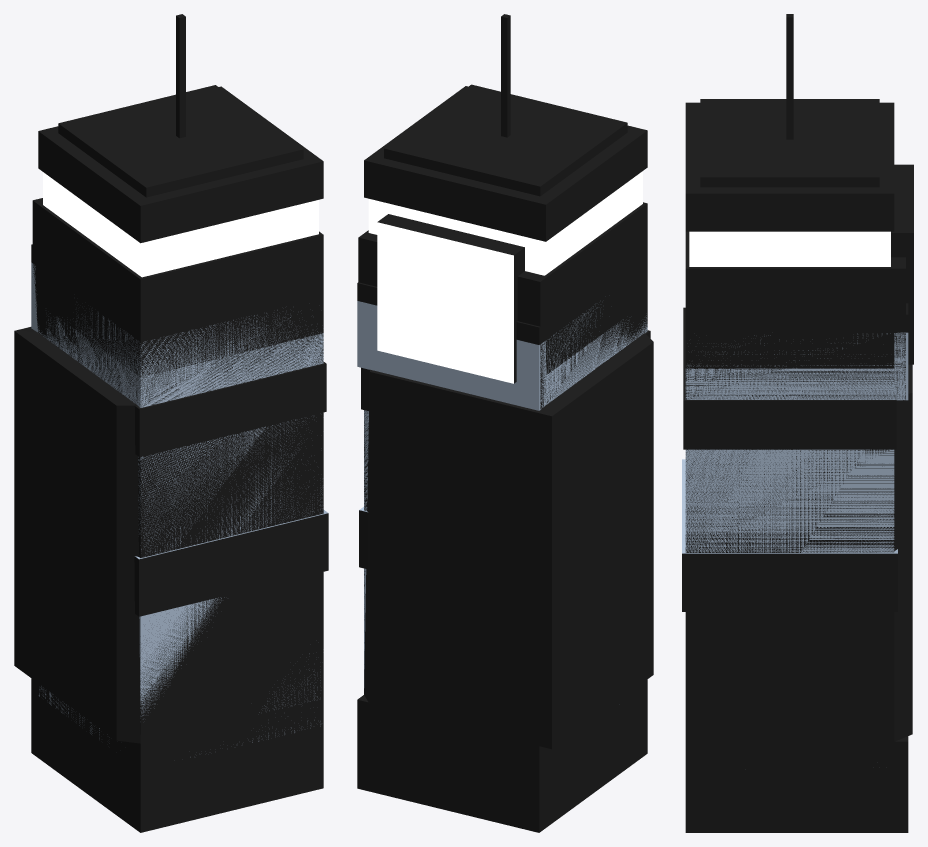
File: building4.glb
3 renders of one model, left to right at view 1: azimuth 30°, elevation 25°; view 2: azimuth 150°, elevation 25°; view 3: azimuth 270°, elevation 25°, orthographic. The views are drawn at different scales.
Parts seen in each view (by area): view 1: Cube.003, Cube.002, Cube, Cube.001, Cube.004; view 2: Cube.003, Cube.004, Cube.002, Cube, Cube.001; view 3: Cube.002, Cube.001, Cube.003, Cube, Cube.004.
Boxes of the visible parts, box(x1,y1,x2,y2) form: Cube.003: box(14, 85, 323, 743); Cube.002: box(31, 244, 323, 757); Cube: box(38, 222, 323, 832); Cube.001: box(38, 362, 328, 832); Cube.004: box(32, 14, 323, 407); Cube.003: box(364, 84, 653, 749); Cube.004: box(358, 14, 647, 409); Cube.002: box(357, 258, 647, 832); Cube: box(546, 220, 647, 827); Cube.001: box(359, 330, 650, 826); Cube.002: box(685, 303, 908, 832); Cube.001: box(682, 307, 897, 832); Cube.003: box(685, 99, 912, 741); Cube: box(685, 286, 894, 832); Cube.004: box(685, 14, 913, 400).
Size of the model in its own units: 4.71 by 16.93 by 4.61.
